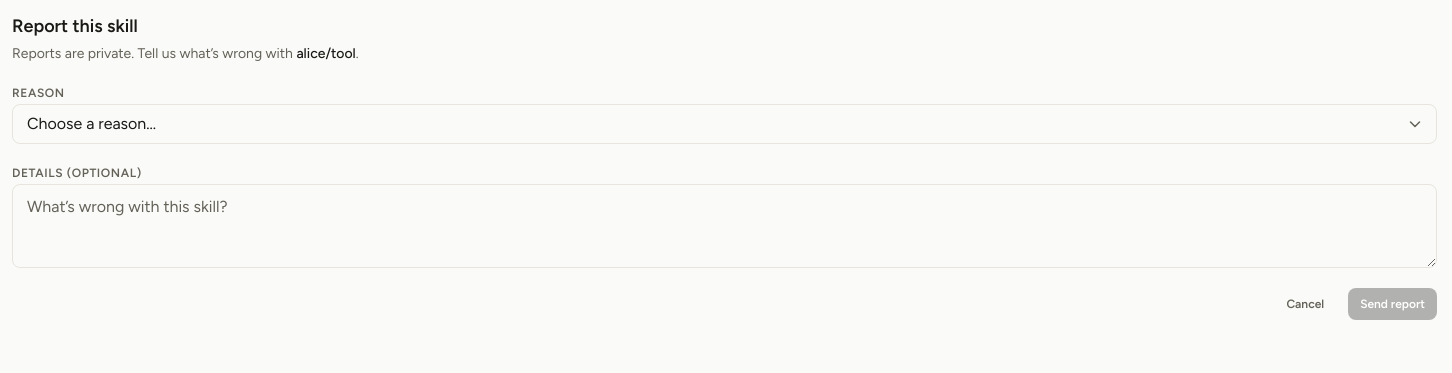
Test: ReportDialogForm › surfaces a rate-limit error and stays open
Select "Spam or low quality" in the dropdown at (724, 124), box top-left (12, 104), bottom-right (1437, 144)
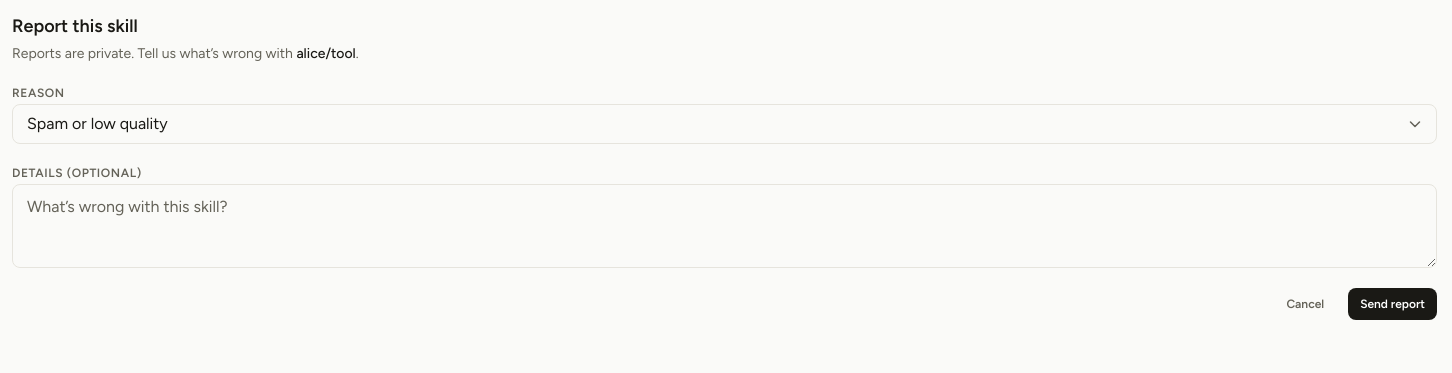
Click the button "Send report" at (1393, 304), box top-left (1348, 288), bottom-right (1437, 320)
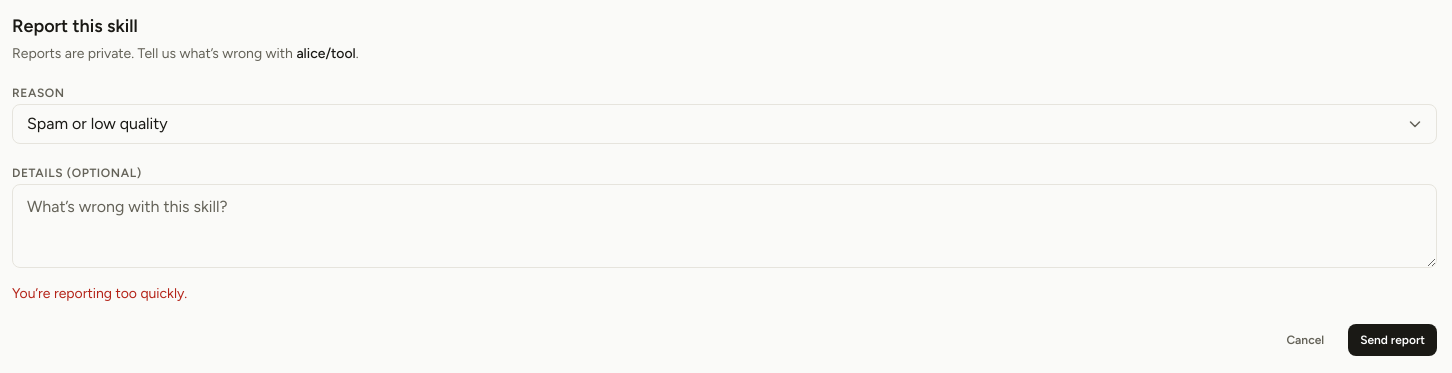
Expected: the message shows "too quickly", top-left (12, 285), bottom-right (187, 302)
